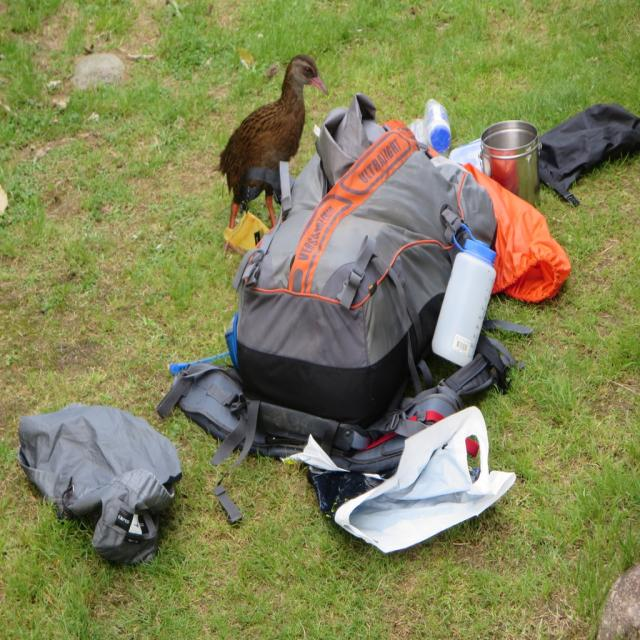backpack: (176, 124, 495, 468)
